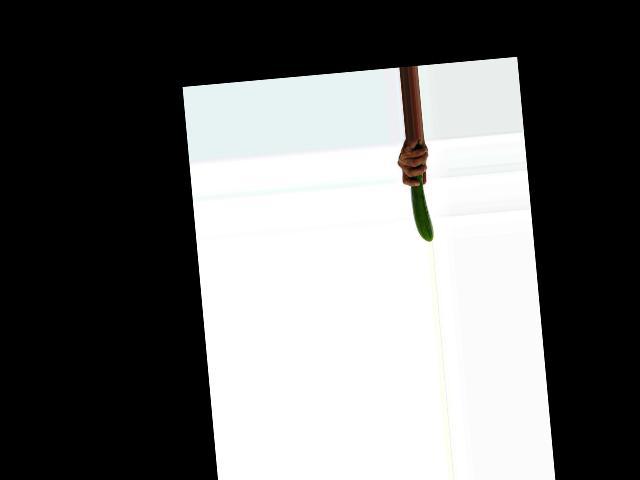cucumber: (406, 140, 434, 243)
